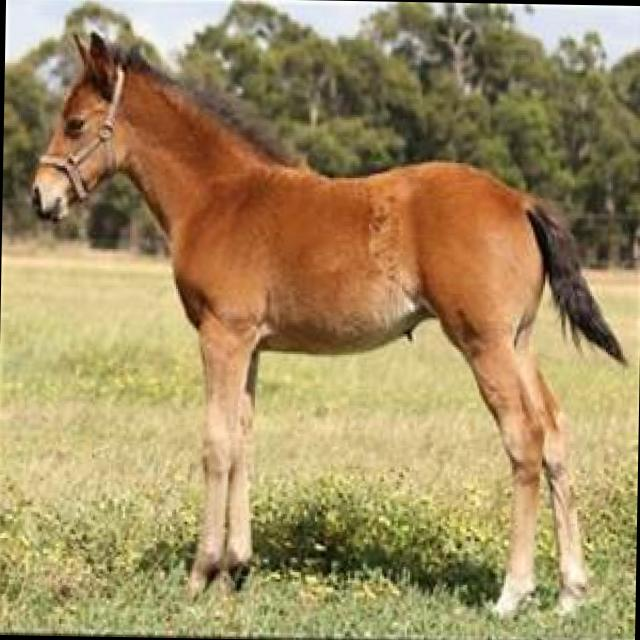horse: (25, 38, 638, 624)
